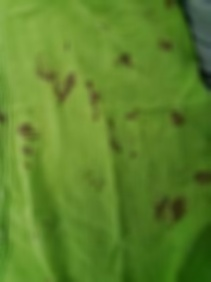blood: (36, 68, 76, 107), (153, 195, 187, 225), (88, 78, 101, 123), (16, 122, 39, 140), (114, 50, 134, 69), (170, 110, 185, 128), (194, 170, 210, 185), (110, 139, 123, 154), (158, 39, 172, 52), (108, 120, 114, 131)
